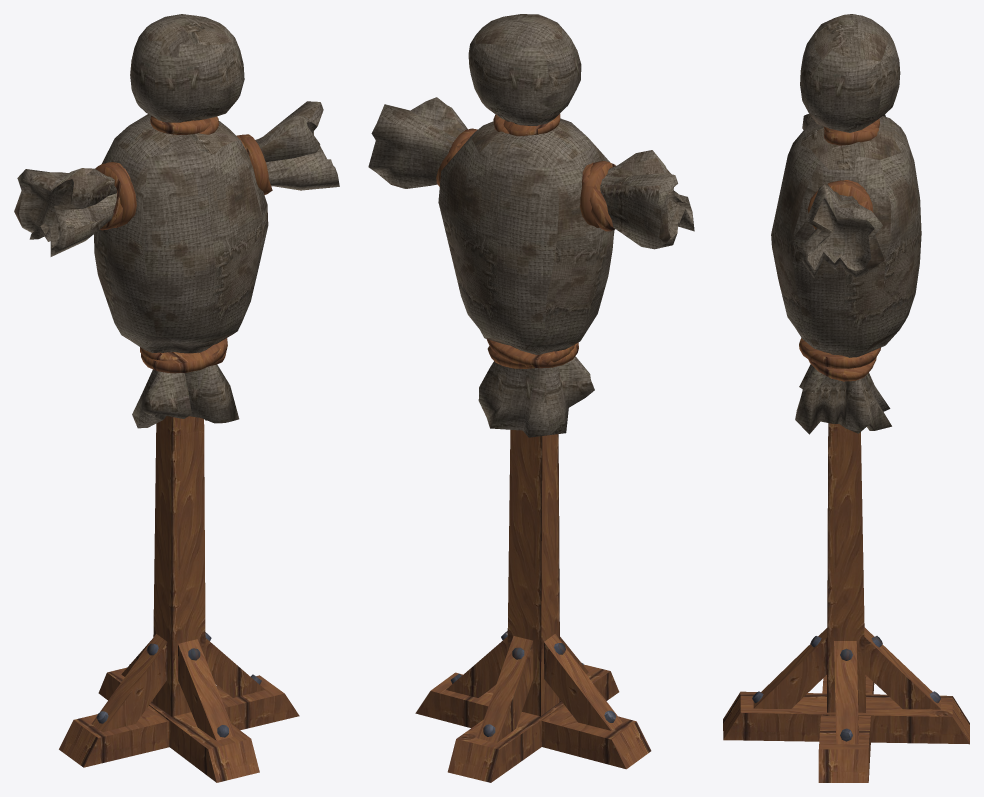
The model's file is furn_dummy.glb.
The picture shows the model from 3 angles, left to right: view 1: azimuth 30°, elevation 25°; view 2: azimuth 150°, elevation 25°; view 3: azimuth 270°, elevation 25°; orthographic projection.
Parts seen in each view (by area): view 1: model; view 2: model; view 3: model.
Boxes of the visible parts, left/top/right/bottom form: model: left=14, top=14, right=339, bottom=782; model: left=368, top=14, right=694, bottom=782; model: left=723, top=14, right=969, bottom=782.
Bounding box in the file's own units: 0.7277 × 1.68 × 0.5261.
Materials: 3 (3 with a texture image).
